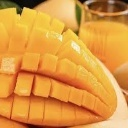mango: (1, 7, 118, 127)
